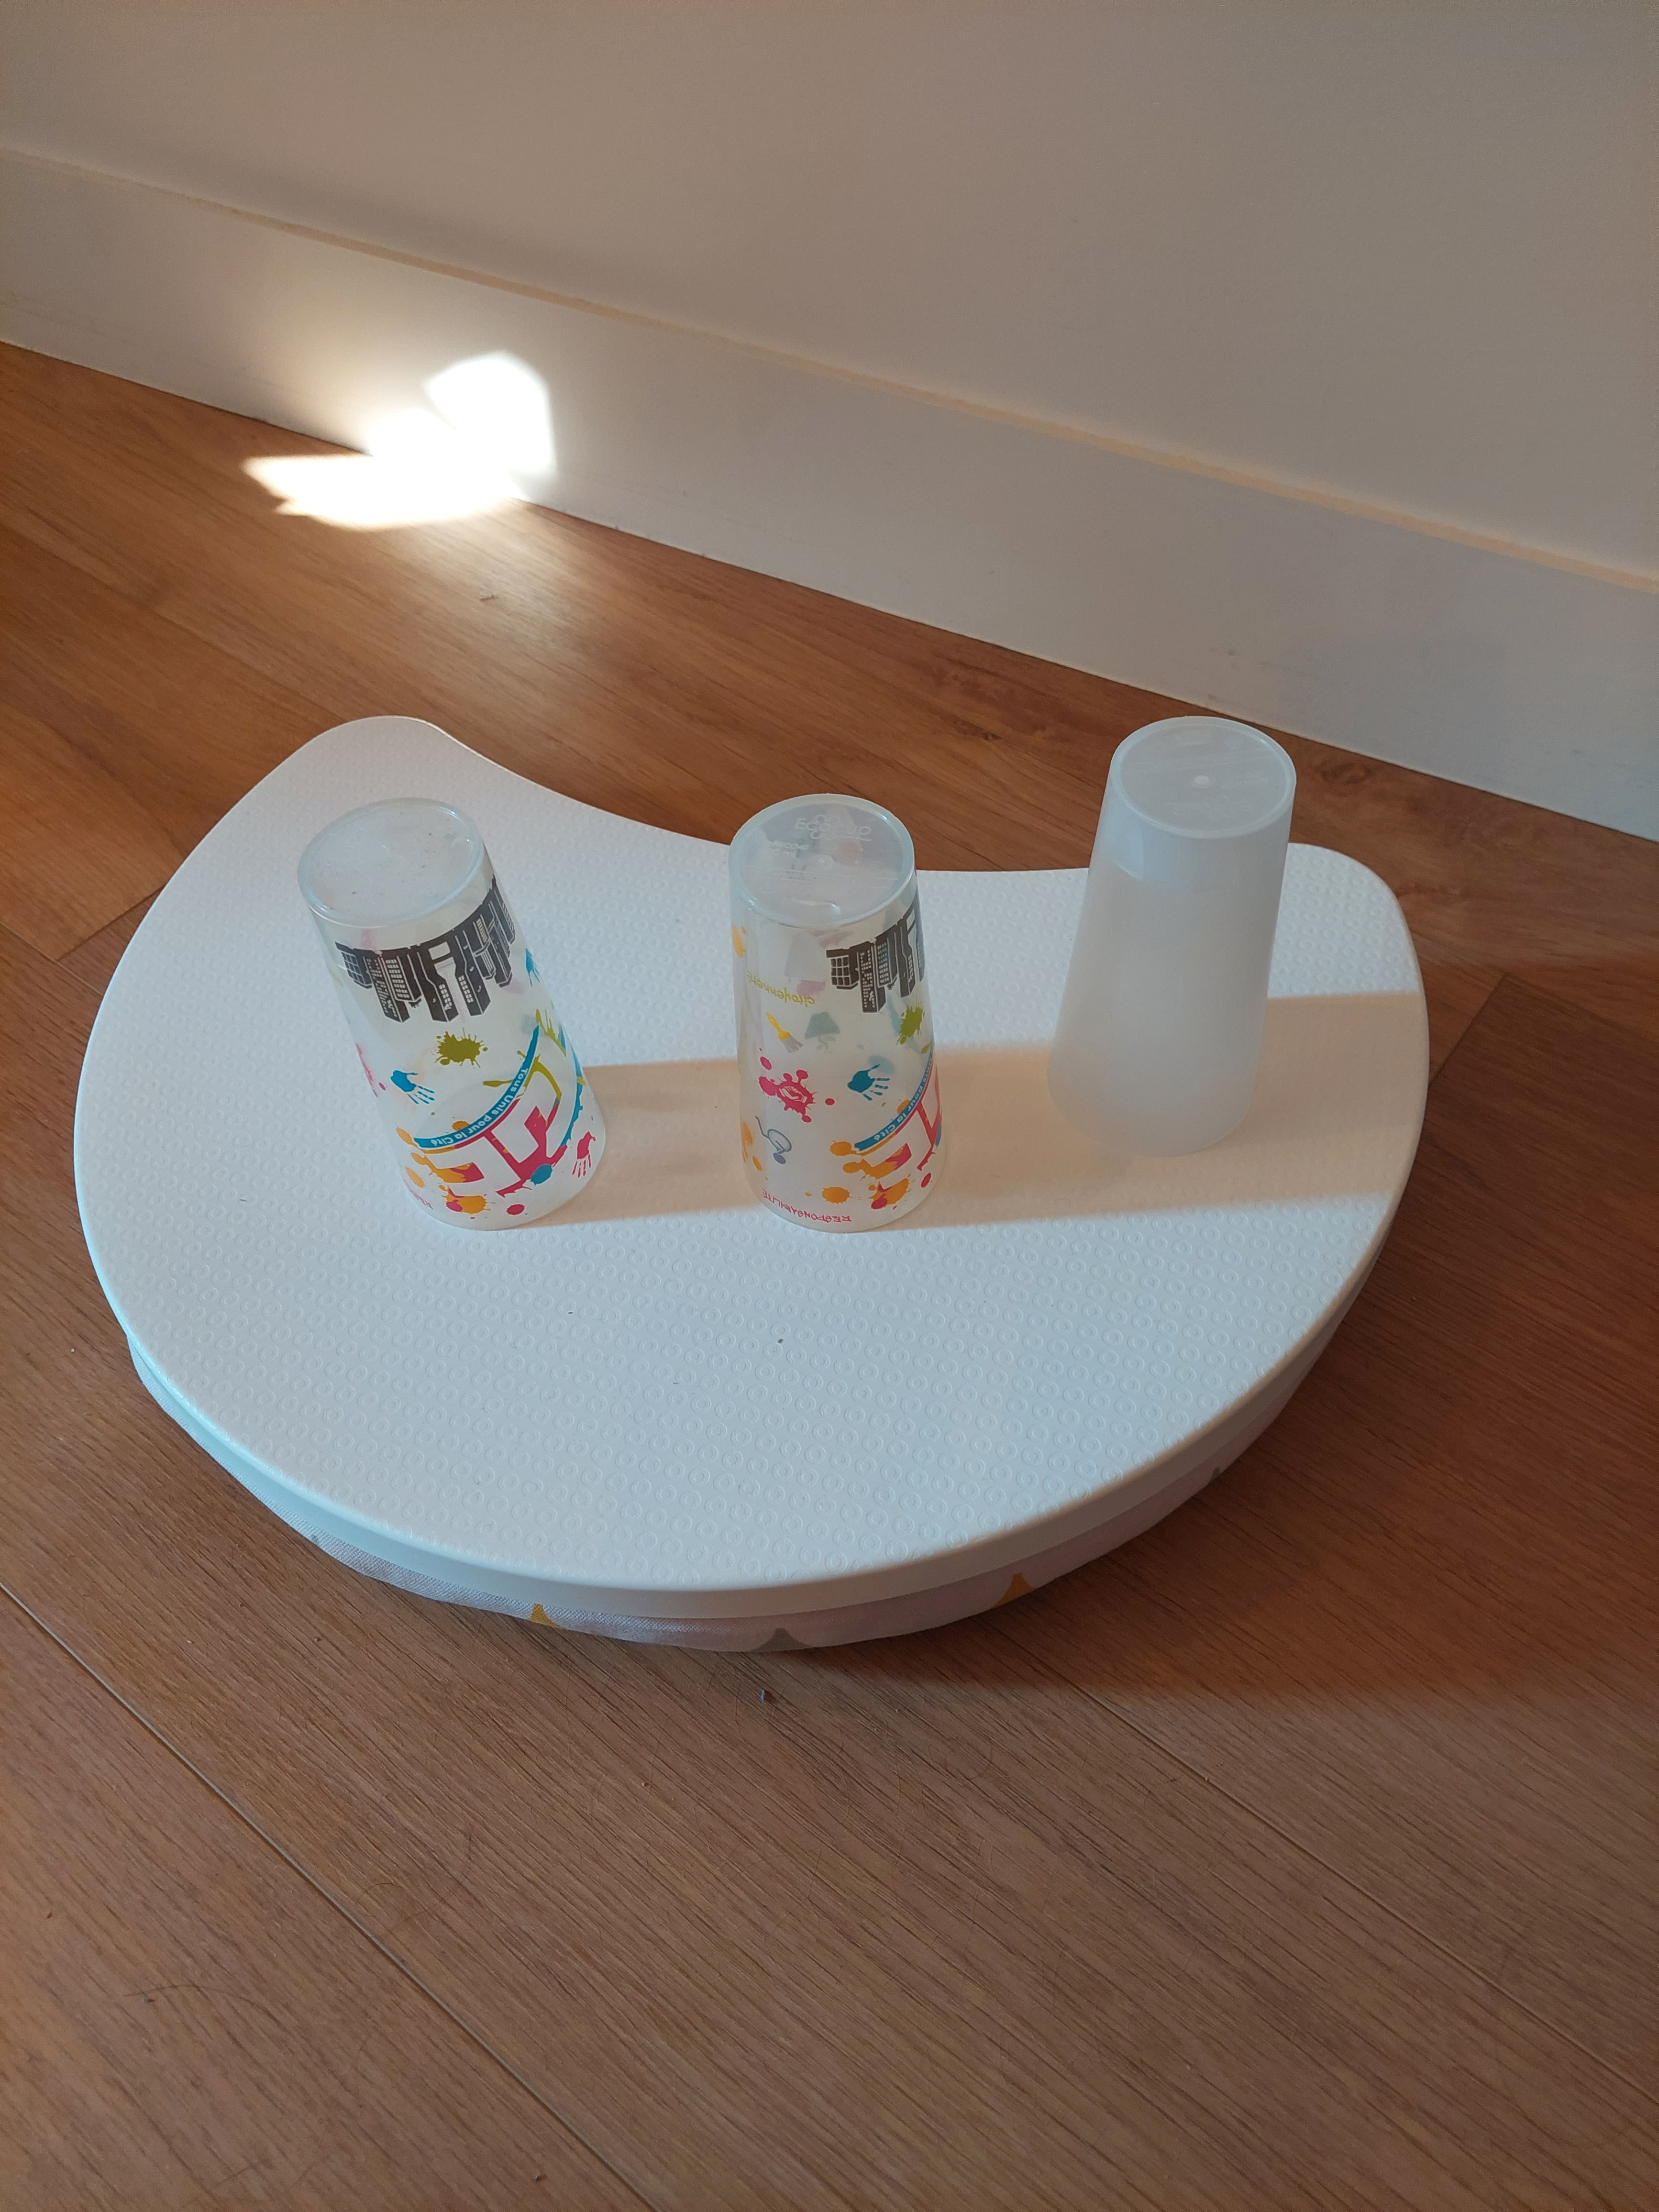ecocup: (296, 799, 610, 1233), (1044, 714, 1303, 1157), (730, 794, 951, 1238)
